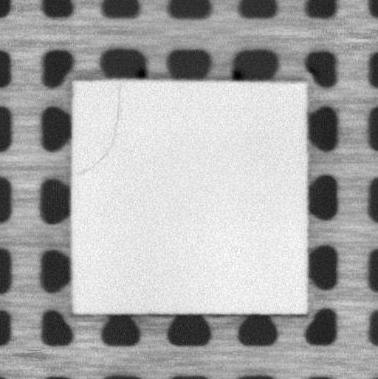DIE_CRACK: (79, 83, 124, 177)
